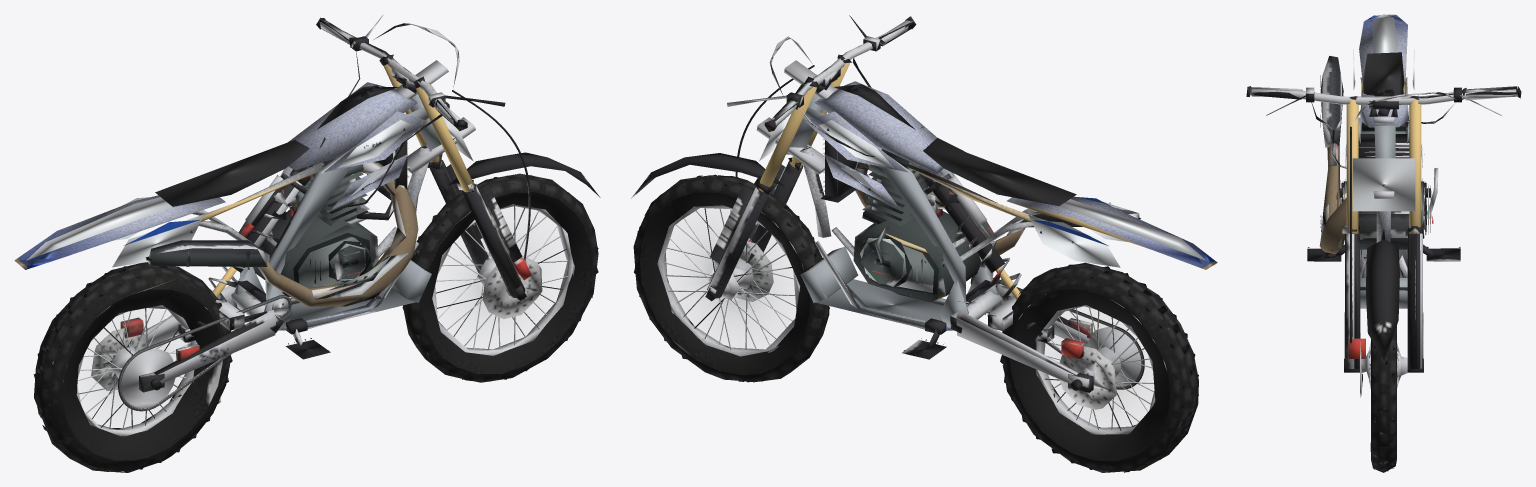
Rendered from bike-lod.glb.
3 views of the same model, side by side, from view 1: azimuth 30°, elevation 25°; view 2: azimuth 150°, elevation 25°; view 3: azimuth 270°, elevation 25° (orthographic). The views are drawn at different scales.
Visible parts, largest first — view 1: wheel_rear, bodywork, wheel_front, frame, exhaust, engine, fork_lower, swingarm, fork_upper, handlebar, shock_body, sprocket_rear (+6 smaller); view 2: wheel_rear, bodywork, wheel_front, frame, engine, fork_lower, swingarm, fork_upper, wheel_front_blur, handlebar, shock_body, wheel_front_spokes (+7 smaller); view 3: fork_lower, fork_upper, bodywork, wheel_front, exhaust, handlebar, frame, engine, pegs, brake_hose.
Part boxes in pixels (left/top/right/bottom): wheel_rear: left=33, top=262, right=232, bottom=472; bodywork: left=14, top=82, right=426, bottom=269; wheel_front: left=402, top=173, right=598, bottom=382; frame: left=192, top=88, right=441, bottom=334; exhaust: left=145, top=162, right=418, bottom=306; engine: left=253, top=137, right=381, bottom=298; fork_lower: left=427, top=152, right=600, bottom=300; swingarm: left=113, top=285, right=283, bottom=392; fork_upper: left=379, top=54, right=475, bottom=192; handlebar: left=316, top=15, right=505, bottom=208; shock_body: left=232, top=167, right=312, bottom=272; sprocket_rear: left=121, top=348, right=175, bottom=407; wheel_rear: left=1000, top=262, right=1198, bottom=472; bodywork: left=805, top=81, right=1217, bottom=269; wheel_front: left=633, top=174, right=829, bottom=382; frame: left=786, top=88, right=1041, bottom=334; engine: left=853, top=126, right=980, bottom=302; fork_lower: left=631, top=153, right=803, bottom=301; swingarm: left=950, top=284, right=1093, bottom=392; fork_upper: left=756, top=54, right=851, bottom=191; wheel_front_blur: left=690, top=234, right=773, bottom=323; handlebar: left=727, top=15, right=916, bottom=232; shock_body: left=919, top=168, right=1004, bottom=273; wheel_front_spokes: left=662, top=208, right=795, bottom=350; fork_lower: left=1342, top=225, right=1423, bottom=372; fork_upper: left=1346, top=95, right=1421, bottom=233; bodywork: left=1345, top=14, right=1424, bottom=167; wheel_front: left=1359, top=326, right=1408, bottom=472; exhaust: left=1319, top=56, right=1346, bottom=254; handlebar: left=1246, top=86, right=1521, bottom=186; frame: left=1358, top=77, right=1409, bottom=308; engine: left=1324, top=122, right=1438, bottom=257; pegs: left=1307, top=244, right=1460, bottom=261; brake_hose: left=1350, top=126, right=1351, bottom=343.
Bounding box in the file's own units: 2.06 × 1.2 × 0.8749.
4 materials, 4 textured.
